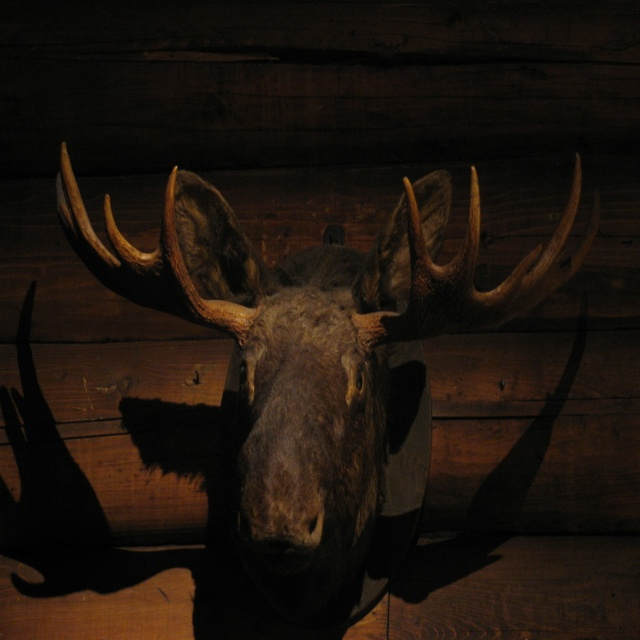Deer: (56, 142, 601, 621)
